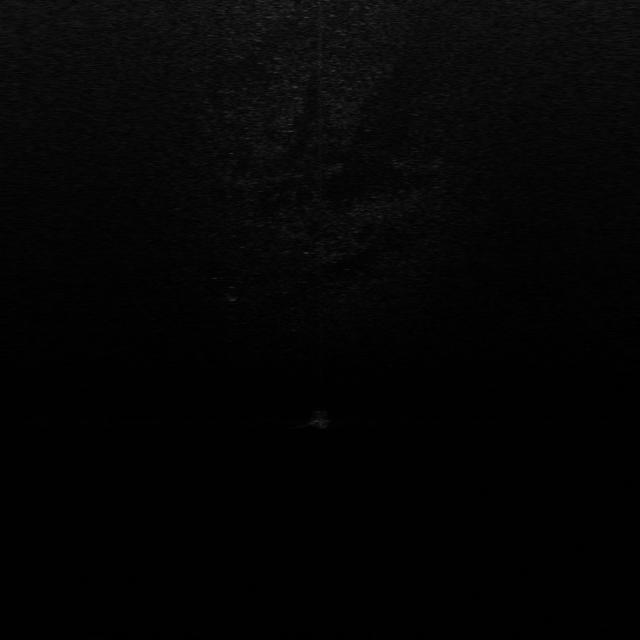ball: (308, 408, 334, 429)
circle cage: (220, 286, 242, 303)
